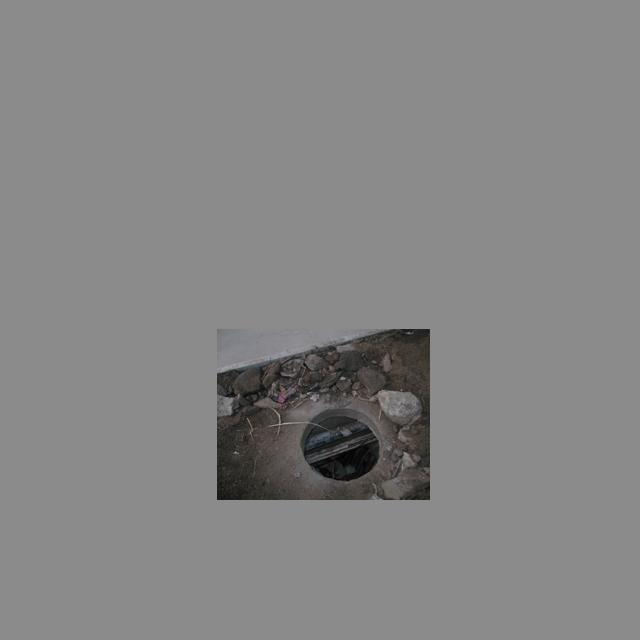lose: (299, 407, 383, 483)
